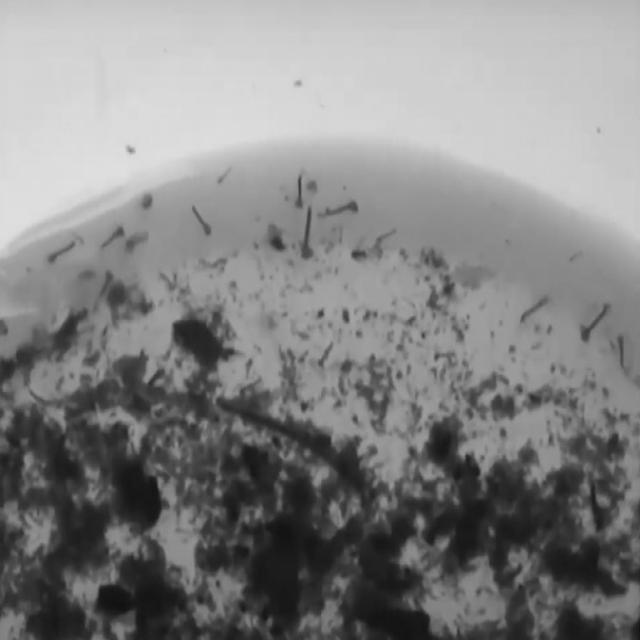larvas: (520, 287, 548, 321), (583, 304, 609, 340), (320, 202, 360, 221), (192, 206, 212, 236), (302, 204, 313, 258), (376, 222, 397, 247), (52, 239, 78, 259), (95, 271, 115, 297), (216, 165, 234, 188), (126, 230, 148, 248), (103, 230, 124, 248), (619, 332, 628, 370), (296, 174, 304, 211)
